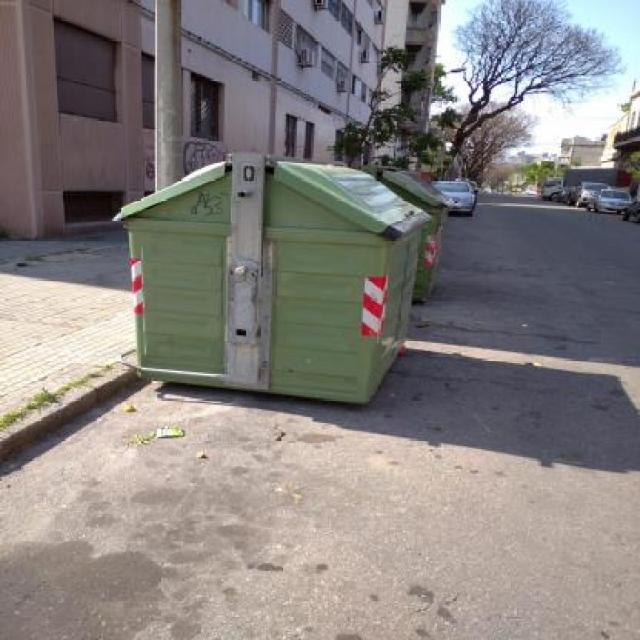garbage: (55, 128, 504, 455)
